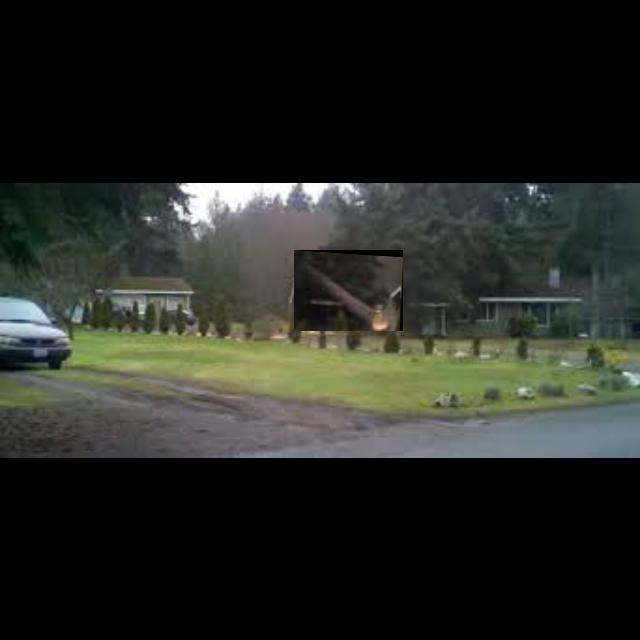Fallen Tree: (294, 250, 404, 332)
